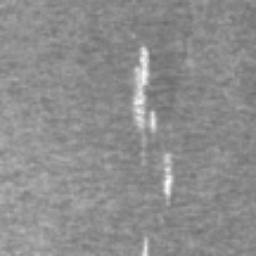White rust: (132, 47, 157, 133), (162, 153, 173, 198), (142, 237, 149, 256)
